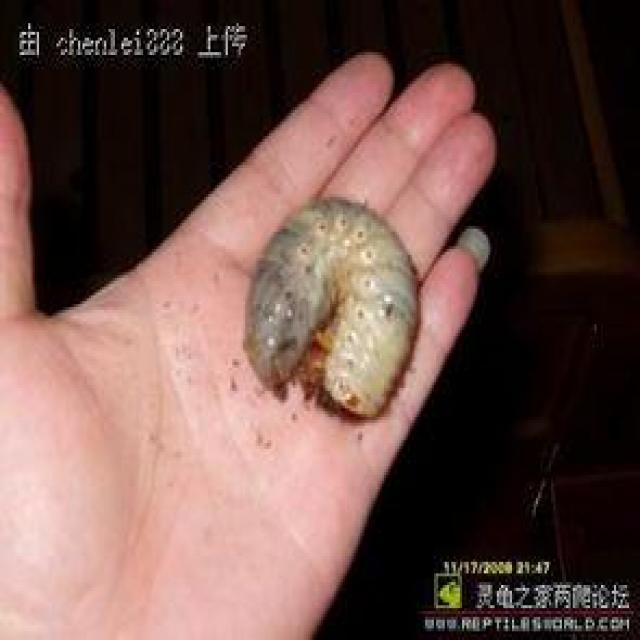Grub-Adult-: (240, 194, 424, 429)
